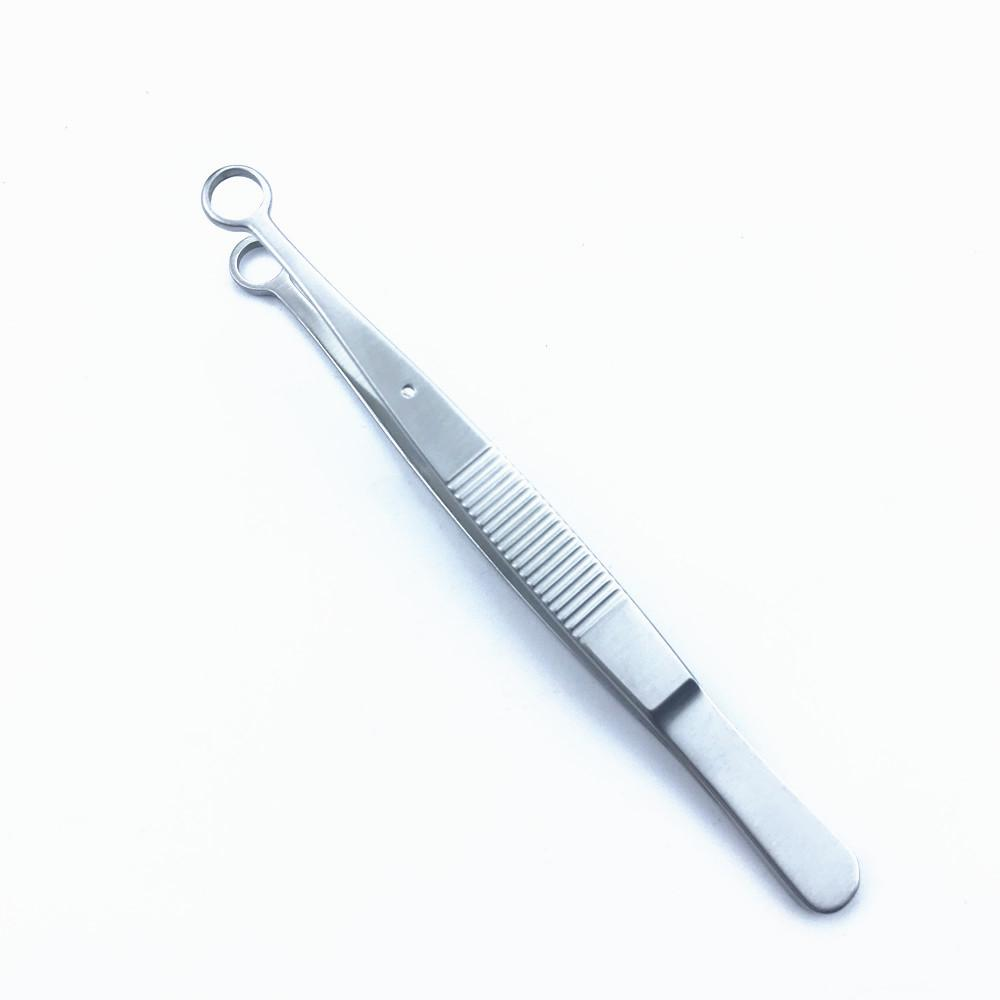Eye Intestinal Forceps: (197, 161, 871, 916)
